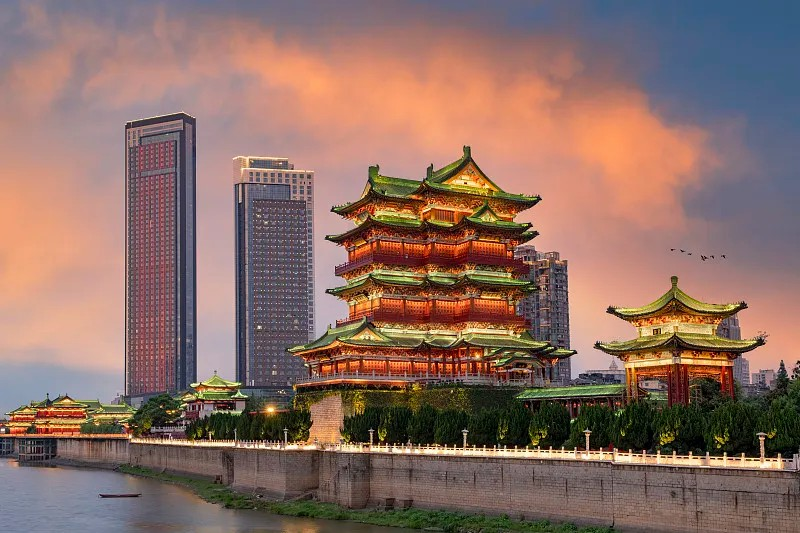Teng: (284, 144, 579, 385)
